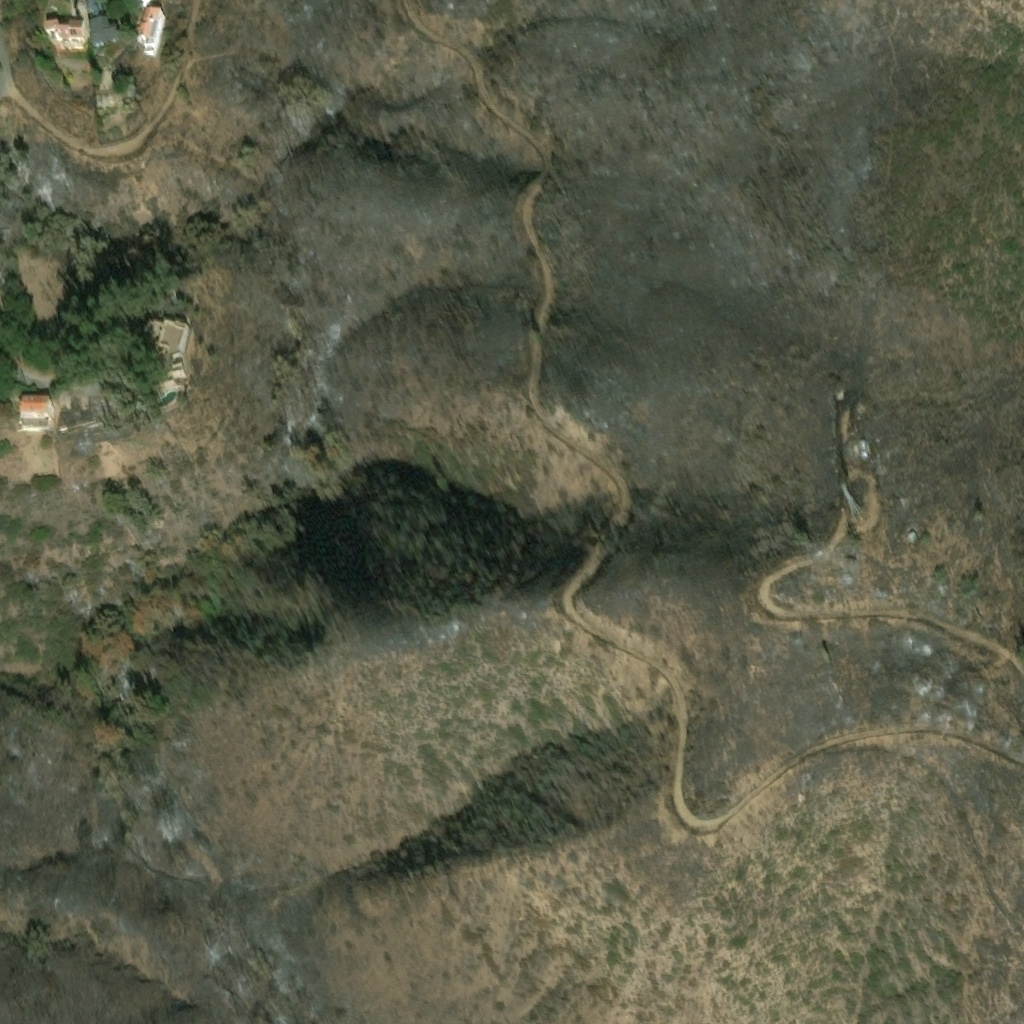0 no-damage: (142, 325, 192, 360), (89, 19, 124, 54), (48, 19, 86, 48), (136, 6, 162, 42), (19, 398, 53, 423), (86, 0, 105, 21), (138, 0, 149, 4)
